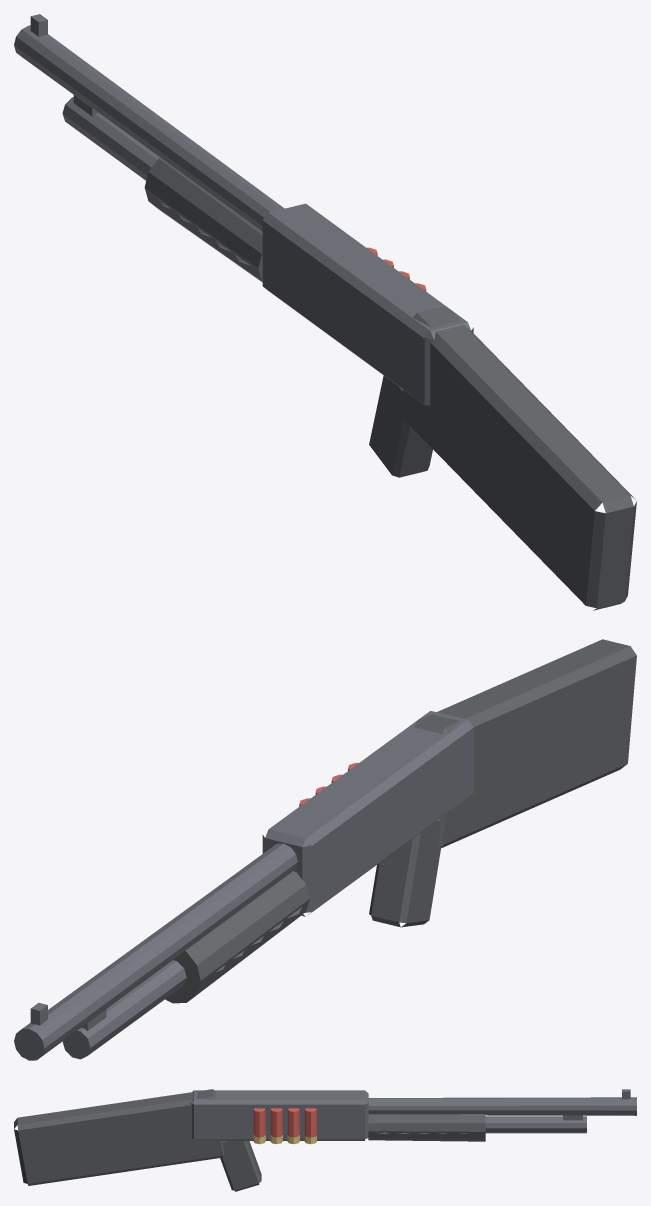
File: pump_shotgun.glb
3 renders of one model, top to bottom at view 1: azimuth 30°, elevation 25°; view 2: azimuth 150°, elevation 25°; view 3: azimuth 270°, elevation 25°, orthographic. The views are drawn at different scales.
Visible parts, largest first — view 1: StockAndPump, ShotgunReceiver; view 2: StockAndPump, ShotgunReceiver; view 3: StockAndPump, ShotgunReceiver, SideSaddleShells, SideSaddleBrass.
Part boxes in pixels (x1=…): StockAndPump: x1=144, y1=157, x2=636, y2=610; ShotgunReceiver: x1=14, y1=14, x2=473, y2=406; StockAndPump: x1=165, y1=639, x2=636, y2=1003; ShotgunReceiver: x1=14, y1=711, x2=473, y2=1060; StockAndPump: x1=14, y1=1089, x2=485, y2=1191; ShotgunReceiver: x1=190, y1=1089, x2=636, y2=1140; SideSaddleShells: x1=253, y1=1108, x2=316, y2=1137; SideSaddleBrass: x1=253, y1=1135, x2=316, y2=1144.
Size of the model in its own units: 0.0598 by 0.1515 by 0.8748.
